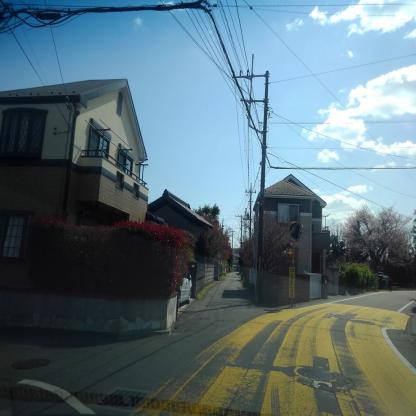Someiyoshino: (334, 196, 416, 271)
